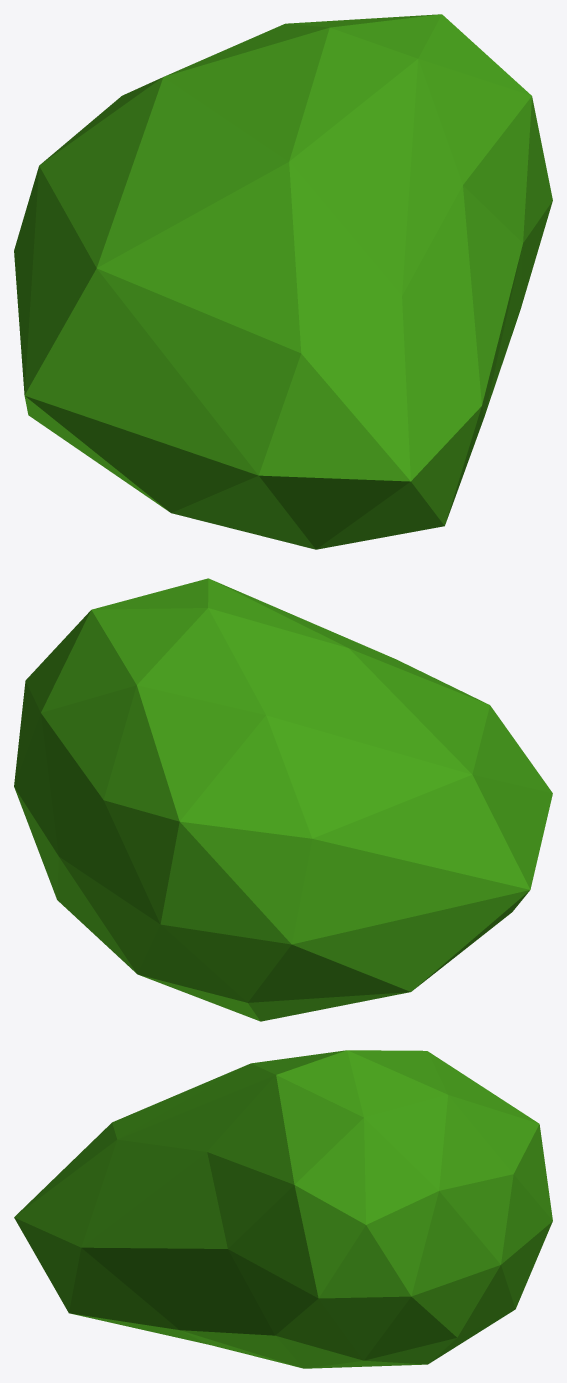
File: Bush02.fbx
3 views of the same model, one above another, from view 1: azimuth 30°, elevation 25°; view 2: azimuth 150°, elevation 25°; view 3: azimuth 270°, elevation 25° (orthographic). The views are drawn at different scales.
Parts seen in each view (by area): view 1: Bush02; view 2: Bush02; view 3: Bush02.
Boxes of the visible parts, x1=… form: Bush02: x1=14, y1=14, x2=552, y2=549; Bush02: x1=14, y1=578, x2=552, y2=1021; Bush02: x1=14, y1=1050, x2=552, y2=1368.
Bounding box in the file's own units: 320 × 228 × 345.
